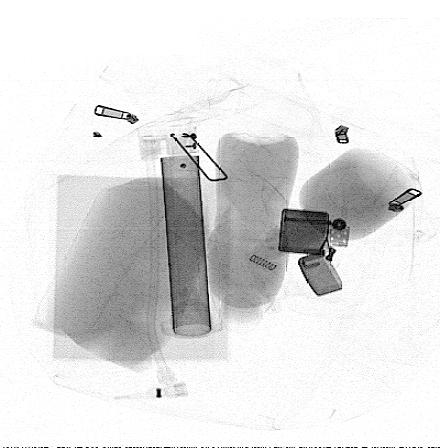Lighter: (278, 208, 351, 297)
